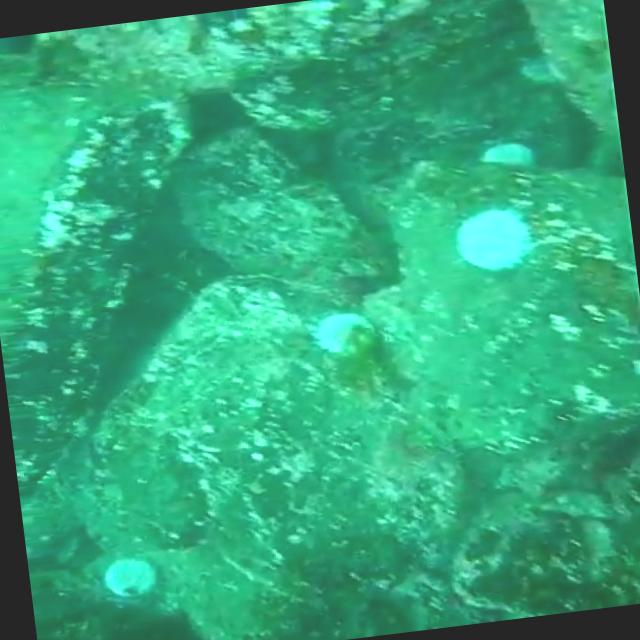Deniz Kestanesi: (435, 198, 542, 279), (302, 300, 384, 360), (96, 554, 160, 606)
